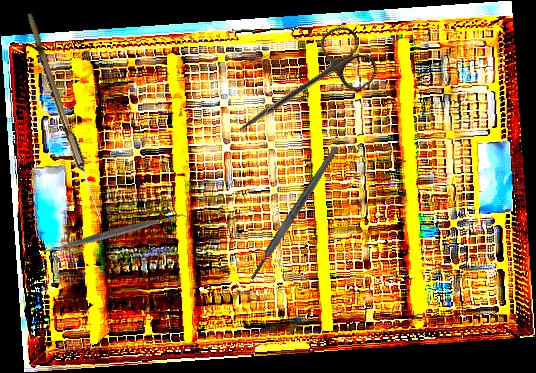Iris Scissors: (221, 19, 384, 161)
Scalpel Handle: (247, 144, 342, 282)
Spatula Surgical: (37, 157, 190, 310)
Surgical Spoon: (21, 12, 108, 225)
